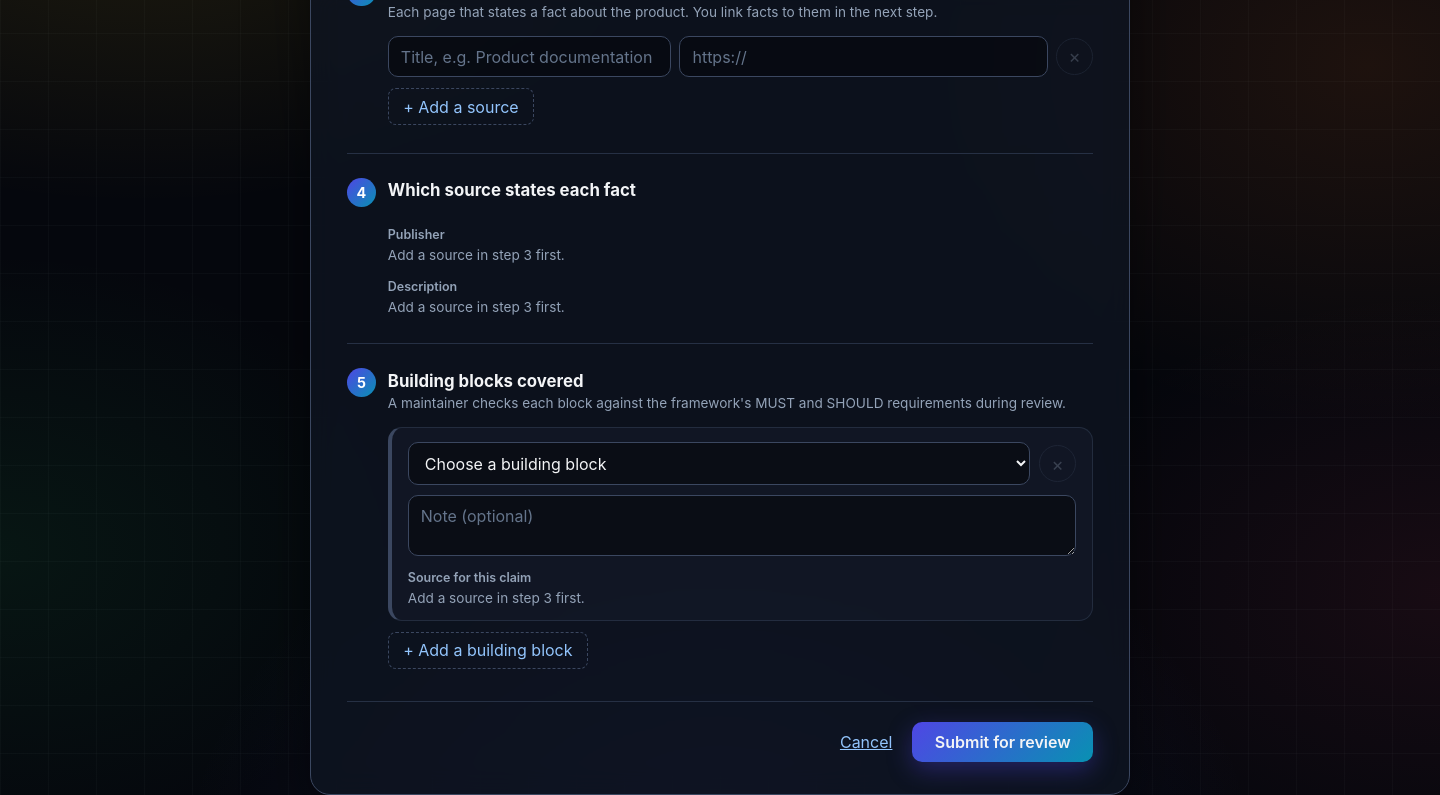
SubmitForm › shows errors and sends nothing when required facts are missing
The width and height of the screenshot is (1440, 795).
(page scrolled)
Click the button "Submit for review": [1003, 742] box [912,722,1093,762]
(page scrolled)
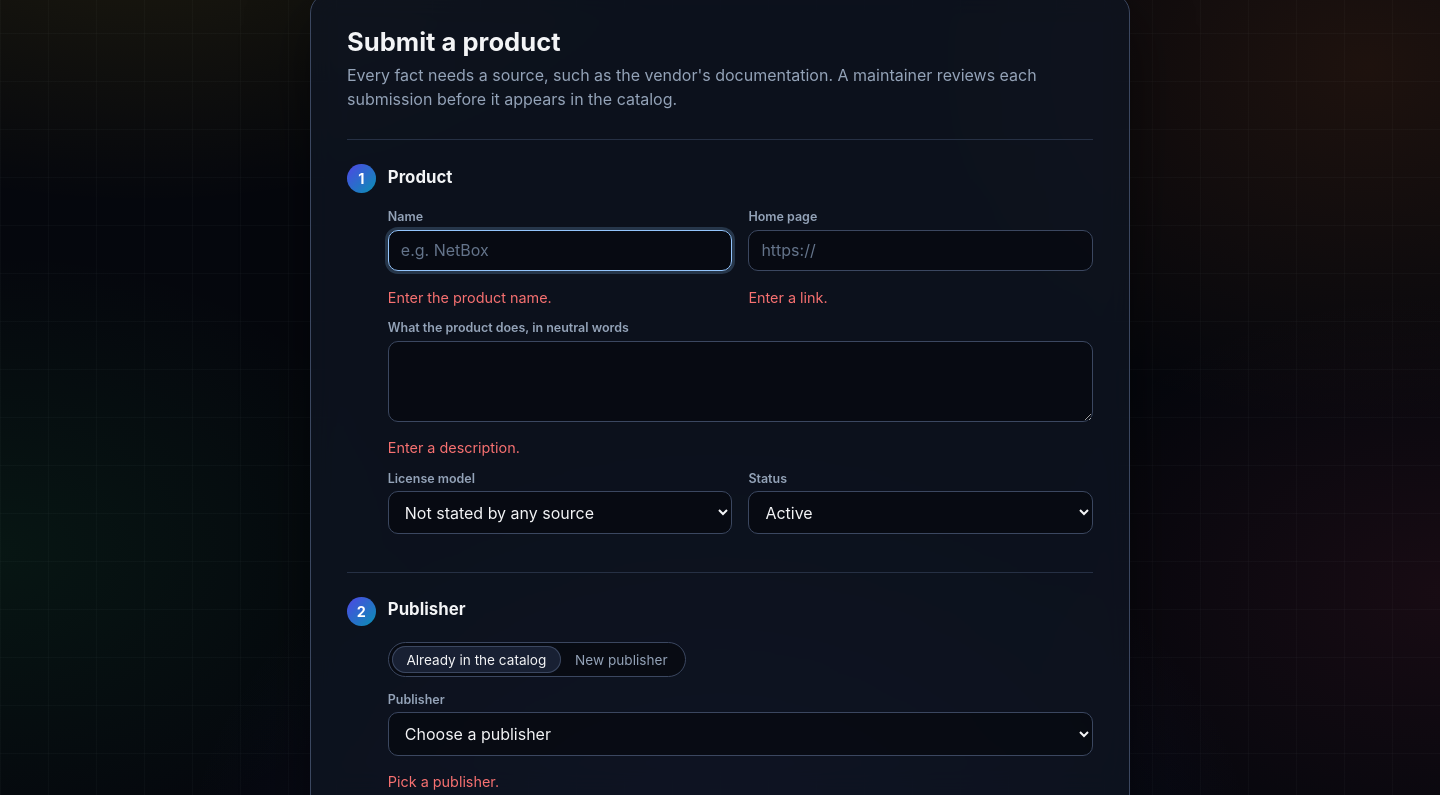
Now the text "Enter the product name." is shown, box [388,288,552,306]
